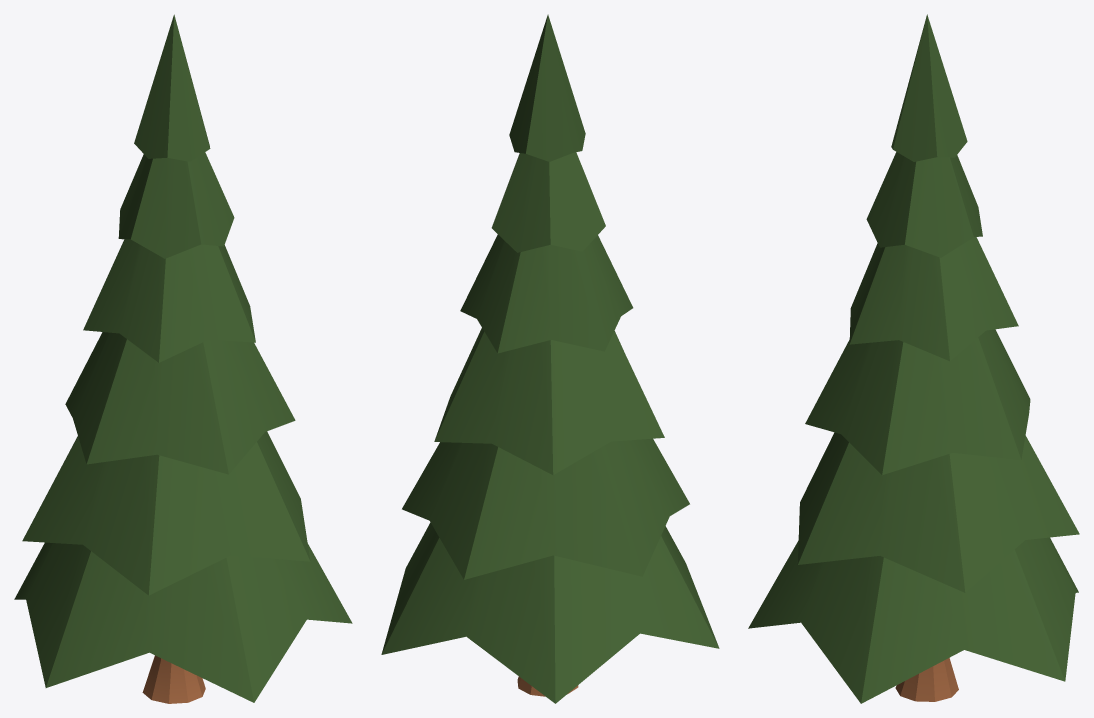
The model's file is Tree2.glb.
The picture shows the model from 3 angles, left to right: view 1: azimuth 30°, elevation 25°; view 2: azimuth 150°, elevation 25°; view 3: azimuth 270°, elevation 25°; orthographic projection.
Parts seen in each view (by area): view 1: Pinetree Leaves.006; view 2: Pinetree Leaves.006; view 3: Pinetree Leaves.006.
Part boxes in pixels (box(x1,y1,x2,y2)): Pinetree Leaves.006: box(14, 14, 352, 703); Pinetree Leaves.006: box(381, 14, 719, 703); Pinetree Leaves.006: box(748, 14, 1079, 703).
Size of the model in its own units: 1.62 by 3.53 by 1.57.
